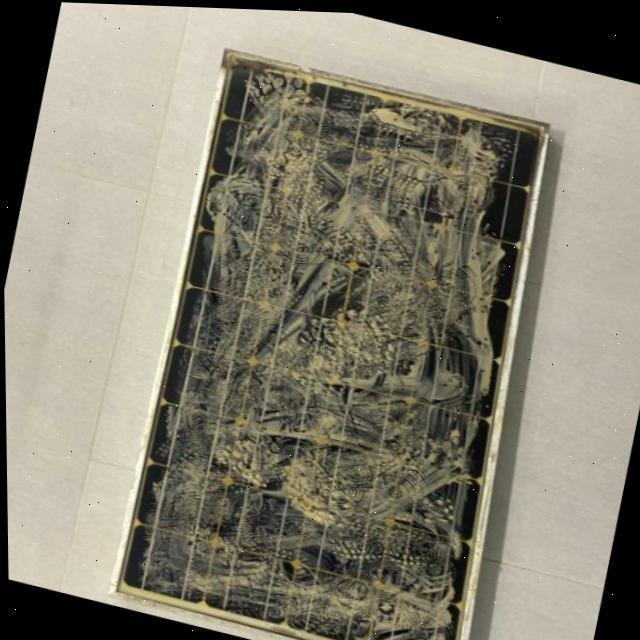Anomaly Solar Panel: (110, 50, 570, 640)
Surface Contaminant: (126, 68, 524, 640)
